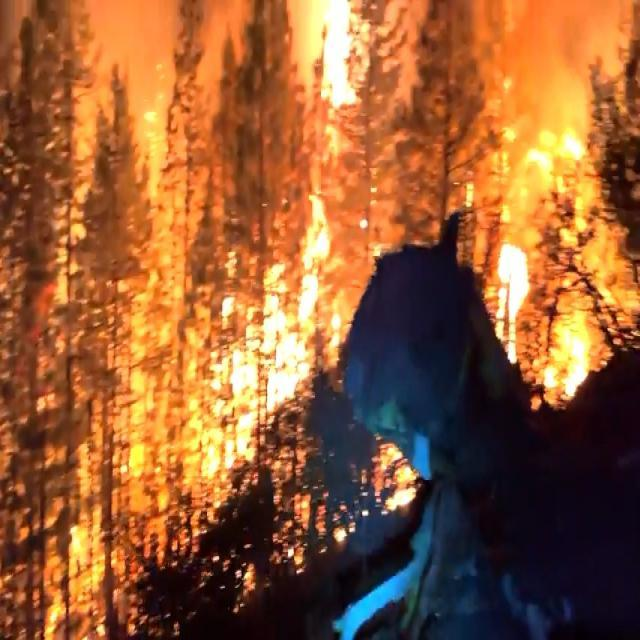Fire: (173, 7, 634, 513)
